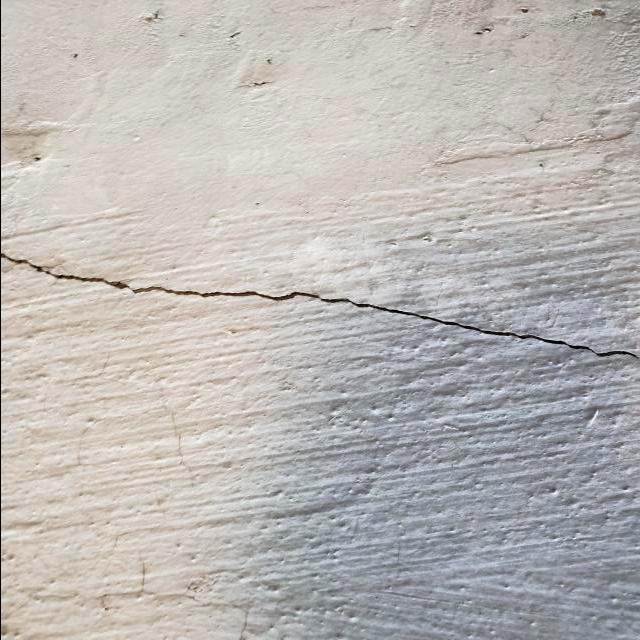SurfaceCrack: (1, 221, 640, 398)
